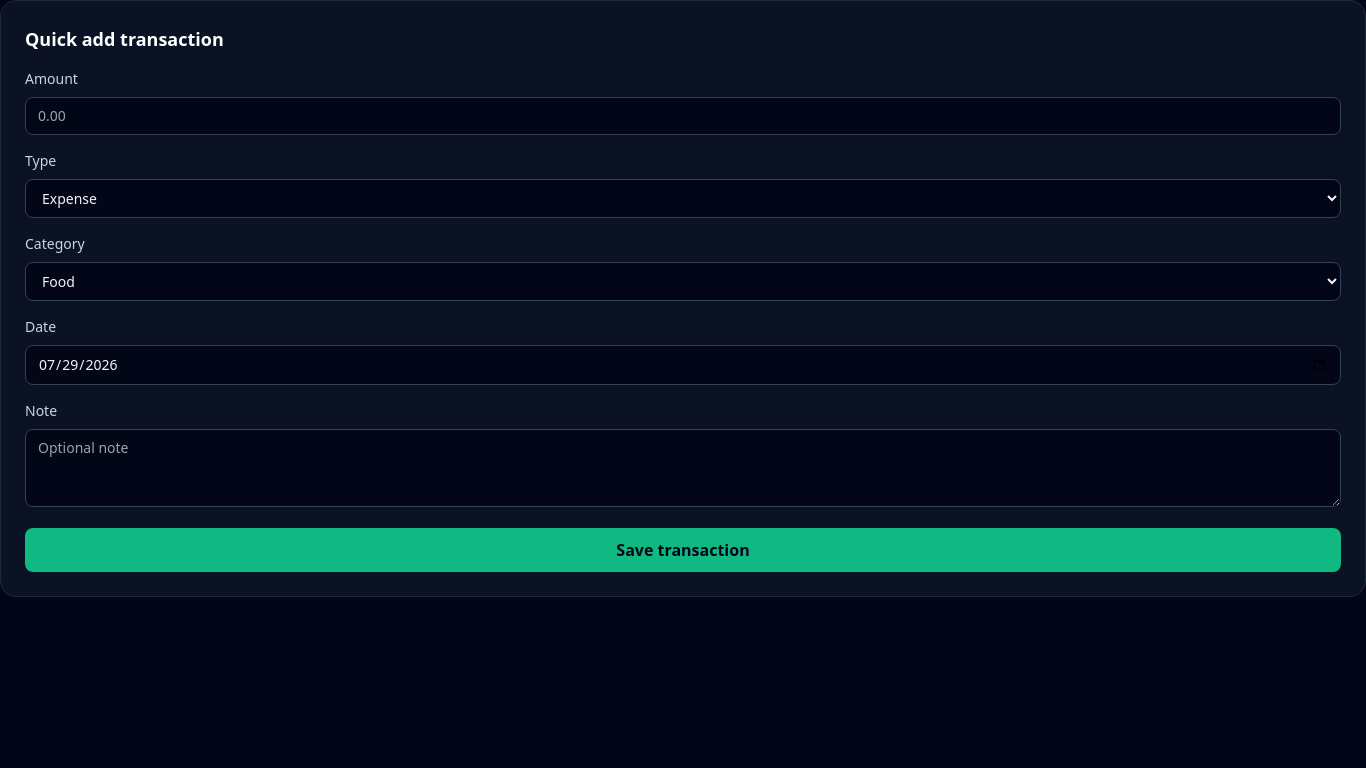
Scenario: TransactionForm › displays an error message when the backend response is not ok
In the field labelled "Amount": (683, 116) [25,97,1341,135], type "10"
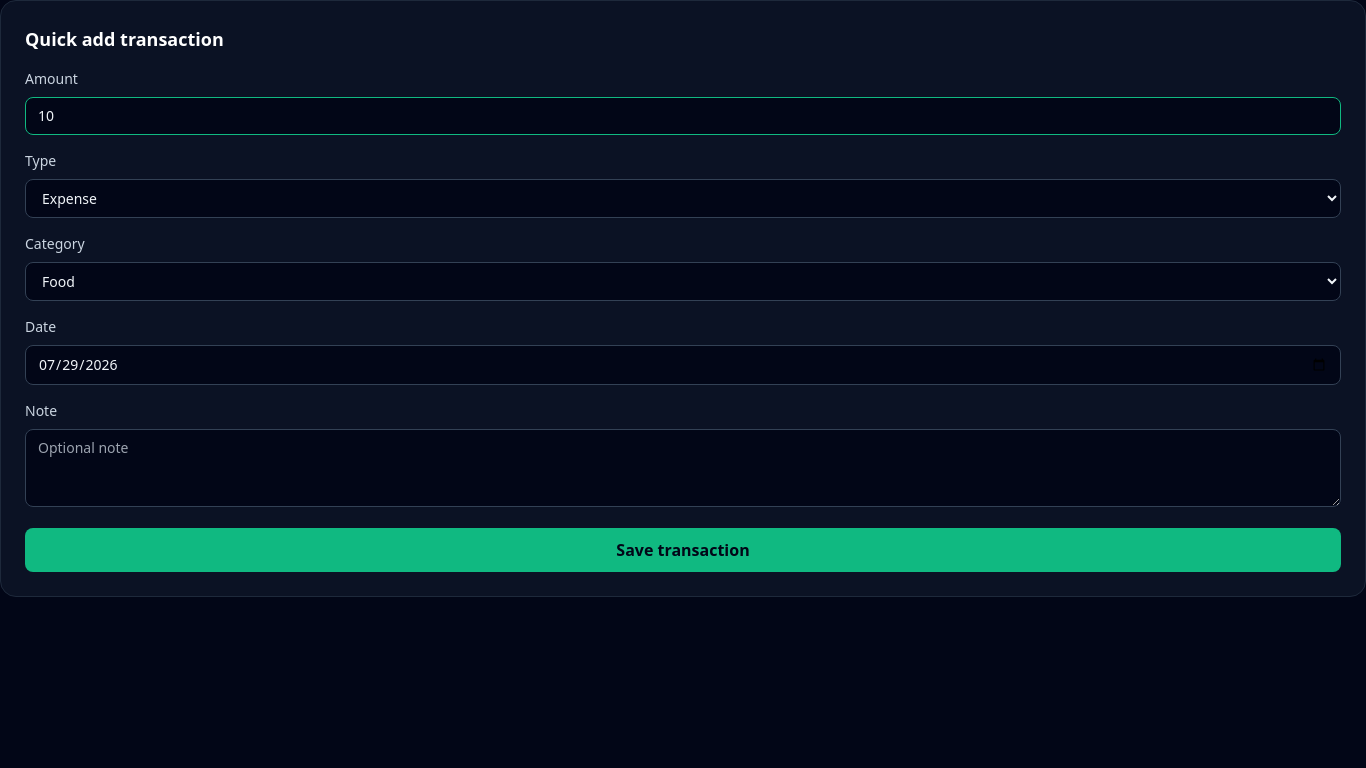
Click the button "Save transaction": (683, 550) [25,528,1341,572]
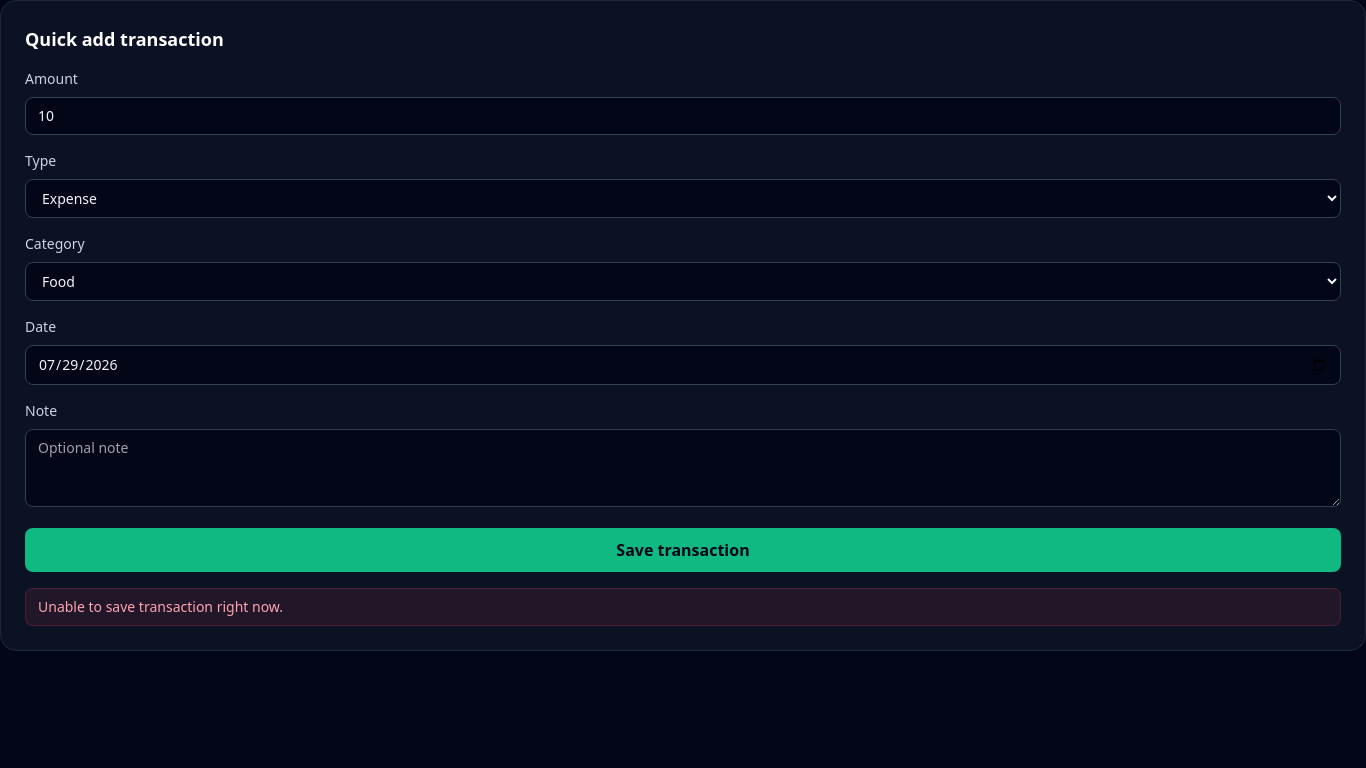
Expected: the text "Unable to save transaction right now." is shown, [25,588,1341,626]
